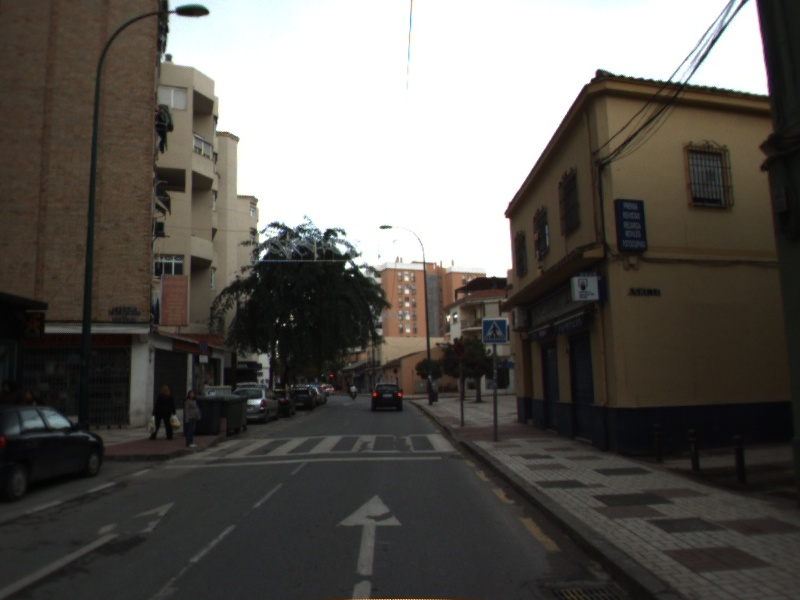STRAIGHT: (1, 499, 179, 600), (332, 492, 405, 600)
